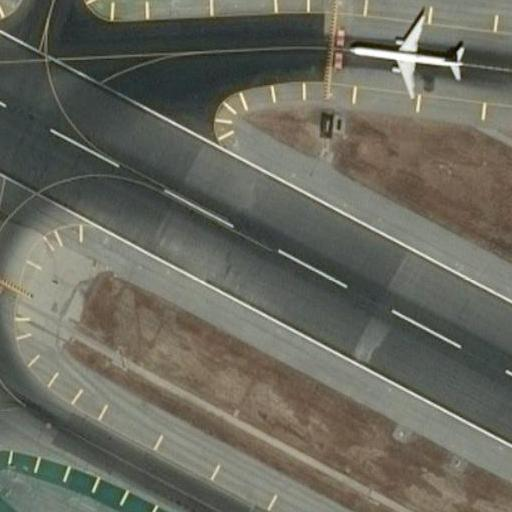Aircraft: (343, 2, 465, 106)
